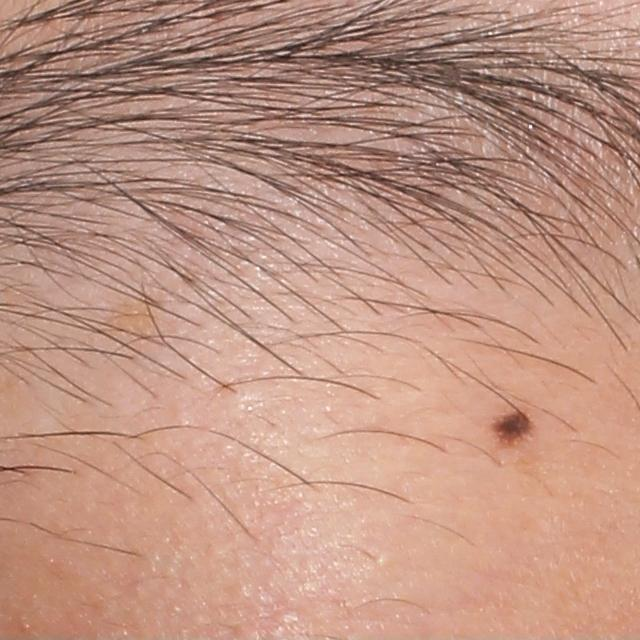nevus: (488, 406, 538, 453)
